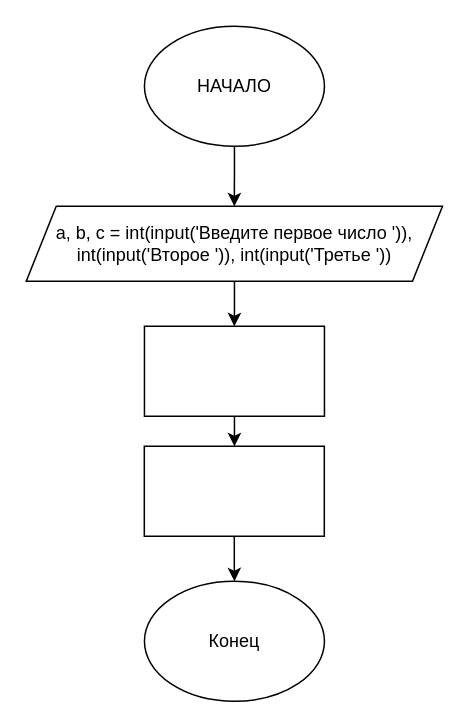
The diagram is 470 pixels wide and 728 high, and some of its shapes have lost their labels. The shapes that lost their labels are listed below. From the top down, each one's box as (x1, y1, x2, y2) in pixels, then its label:
(143, 325, 324, 416): lst = [a, b, c]
(143, 445, 324, 536): print(sorted(lst)[len(lst) // 2])
